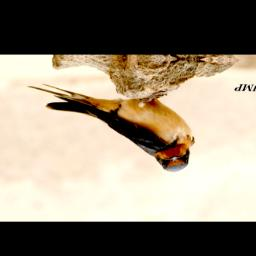Swallow: (24, 78, 198, 173)
